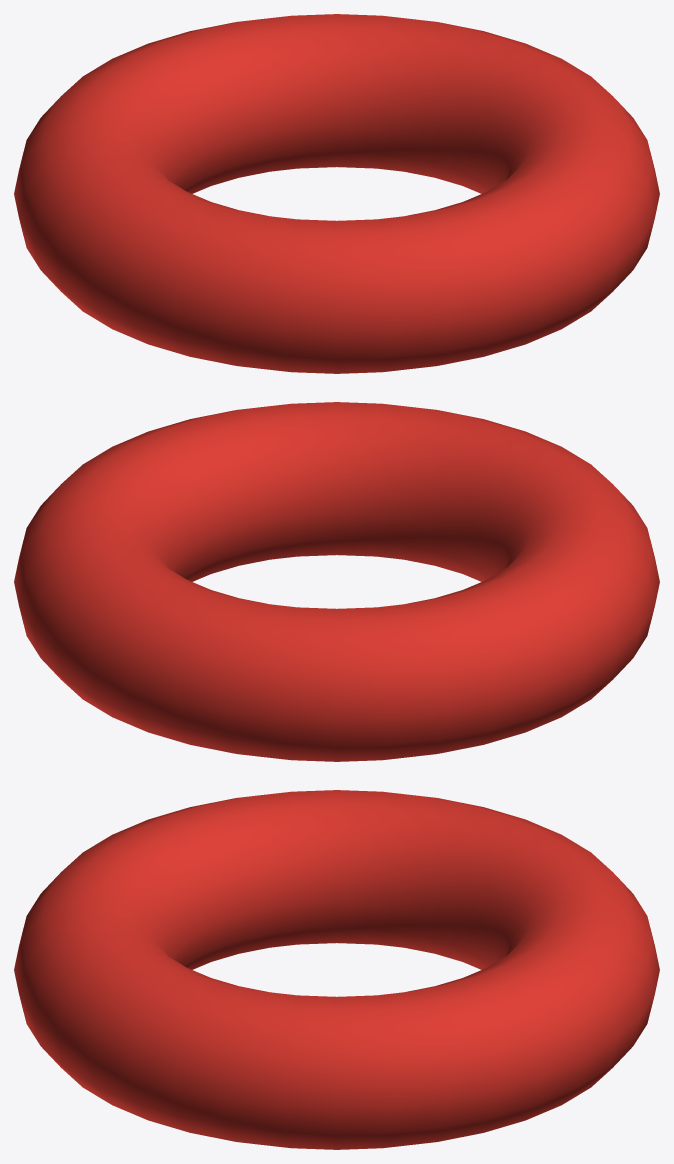
The picture shows the model from 3 angles, top to bottom: view 1: azimuth 30°, elevation 25°; view 2: azimuth 150°, elevation 25°; view 3: azimuth 270°, elevation 25°; orthographic projection.
Parts seen in each view (by area): view 1: Torus; view 2: Torus; view 3: Torus.
Part boxes in pixels (x1=…): Torus: x1=14, y1=14, x2=659, y2=373; Torus: x1=14, y1=402, x2=659, y2=761; Torus: x1=14, y1=790, x2=659, y2=1149.
Size of the model in its own units: 2.64 by 0.624 by 2.64.
